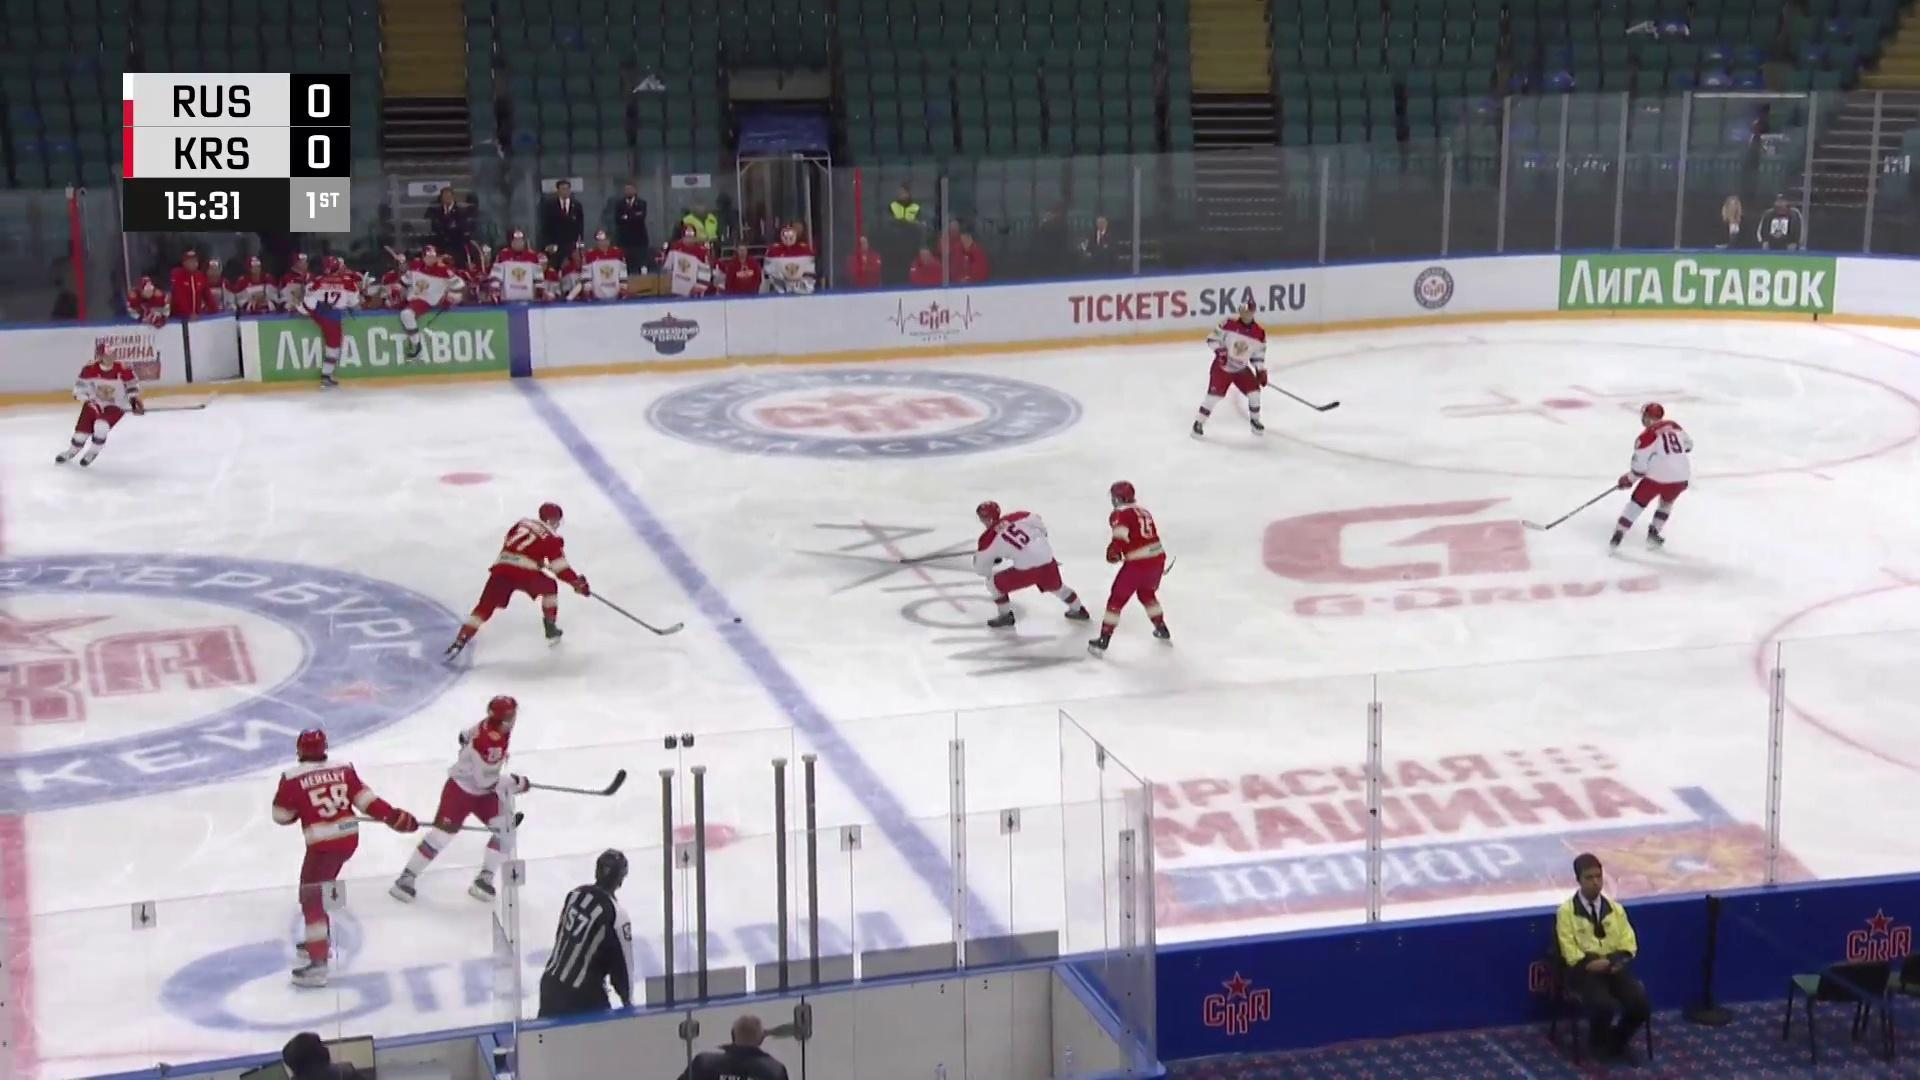ball: (732, 616, 745, 625)
